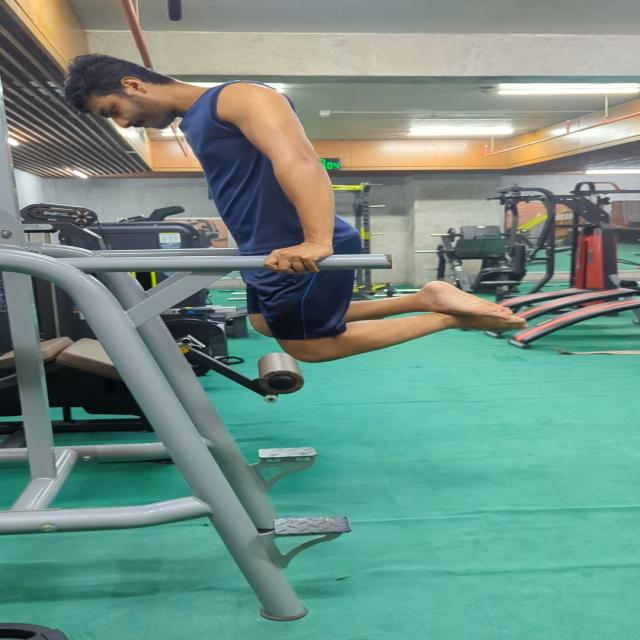Normal_Dips: (56, 52, 575, 368)
